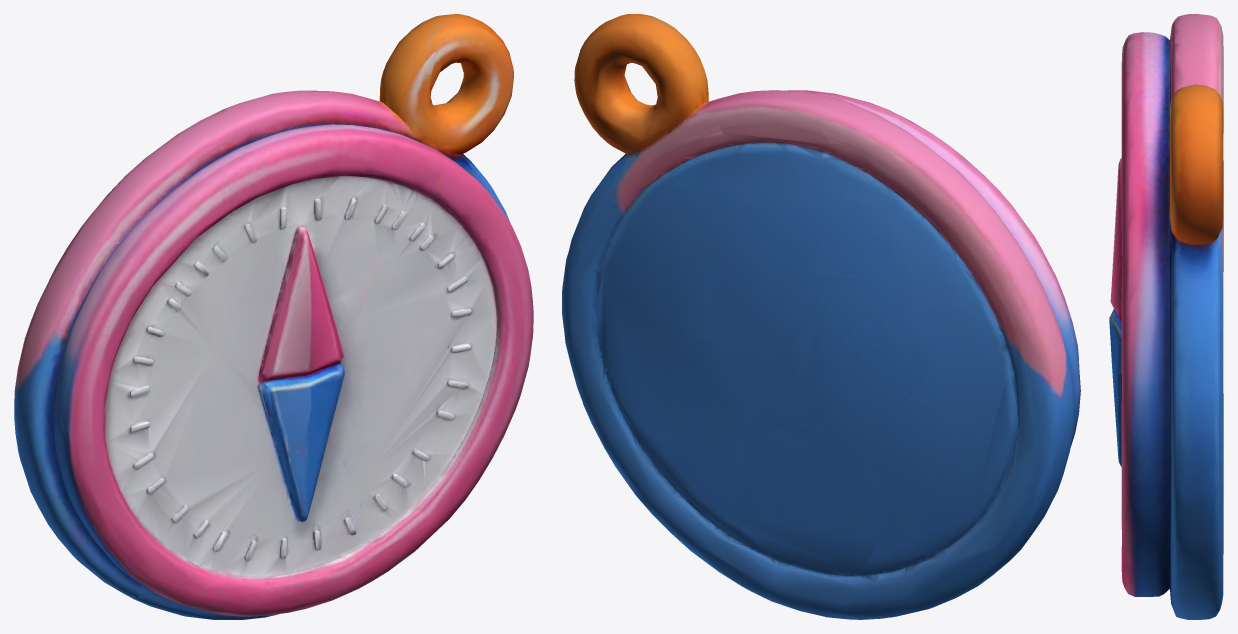
File: compass__main__r2__p2.glb
3 renders of one model, left to right at view 1: azimuth 30°, elevation 25°; view 2: azimuth 150°, elevation 25°; view 3: azimuth 270°, elevation 25°, orthographic. The views are drawn at different scales.
Visible parts, largest first — view 1: model; view 2: model; view 3: model.
Part boxes in pixels (left/top/right/bottom): model: left=14, top=14, right=533, bottom=619; model: left=562, top=14, right=1080, bottom=619; model: left=1109, top=14, right=1223, bottom=619.
Bounding box in the file's own units: 1.75 × 1.84 × 0.3208.
Materials: 1 (1 with a texture image).
